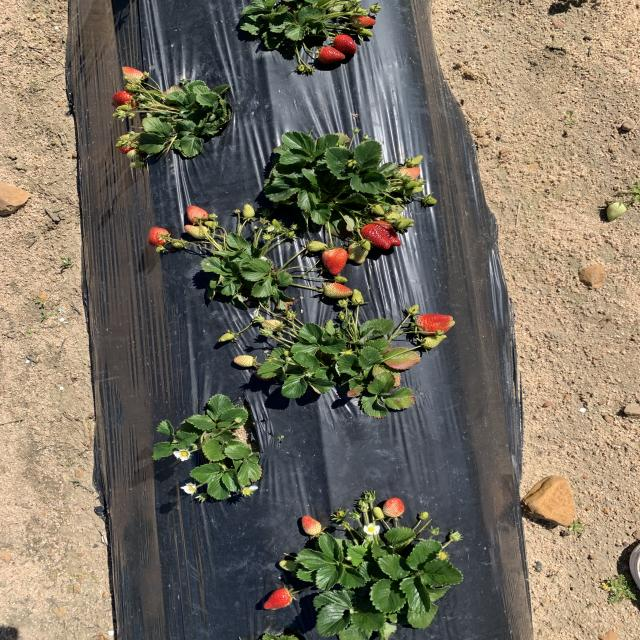unripe: (359, 217, 404, 250), (415, 314, 454, 335), (323, 249, 351, 276), (260, 588, 296, 609), (112, 90, 140, 110), (318, 45, 346, 64), (332, 34, 358, 54), (146, 227, 170, 246), (351, 15, 377, 27), (116, 142, 137, 155)
